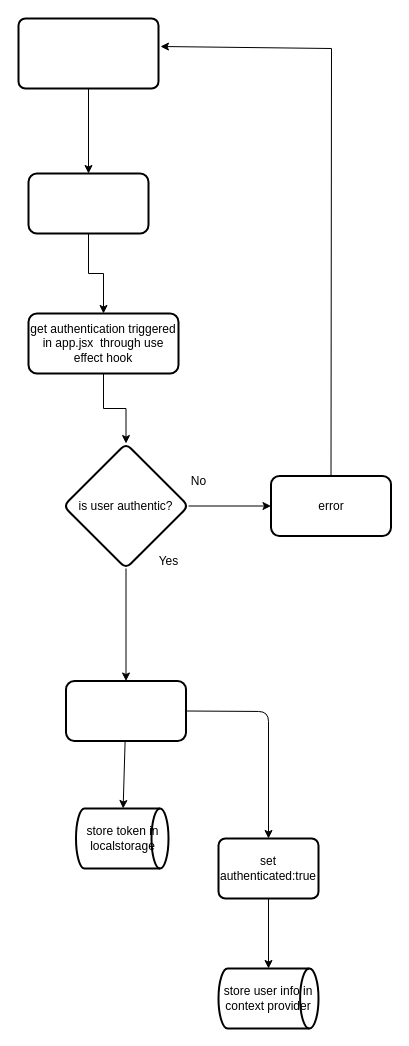
This 409x1046 diagram has some shape labels left out. The box of each missing label's shape, as (x1, y1, x2, y2) in pixels:
start: (17, 17, 159, 89)
token given: (64, 680, 186, 742)
user attempts to sign in: (27, 172, 149, 234)
